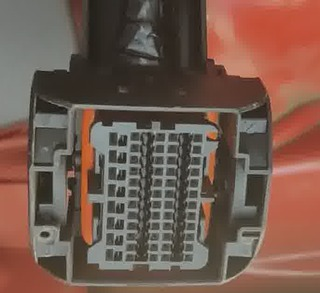connector: (28, 70, 273, 286)
